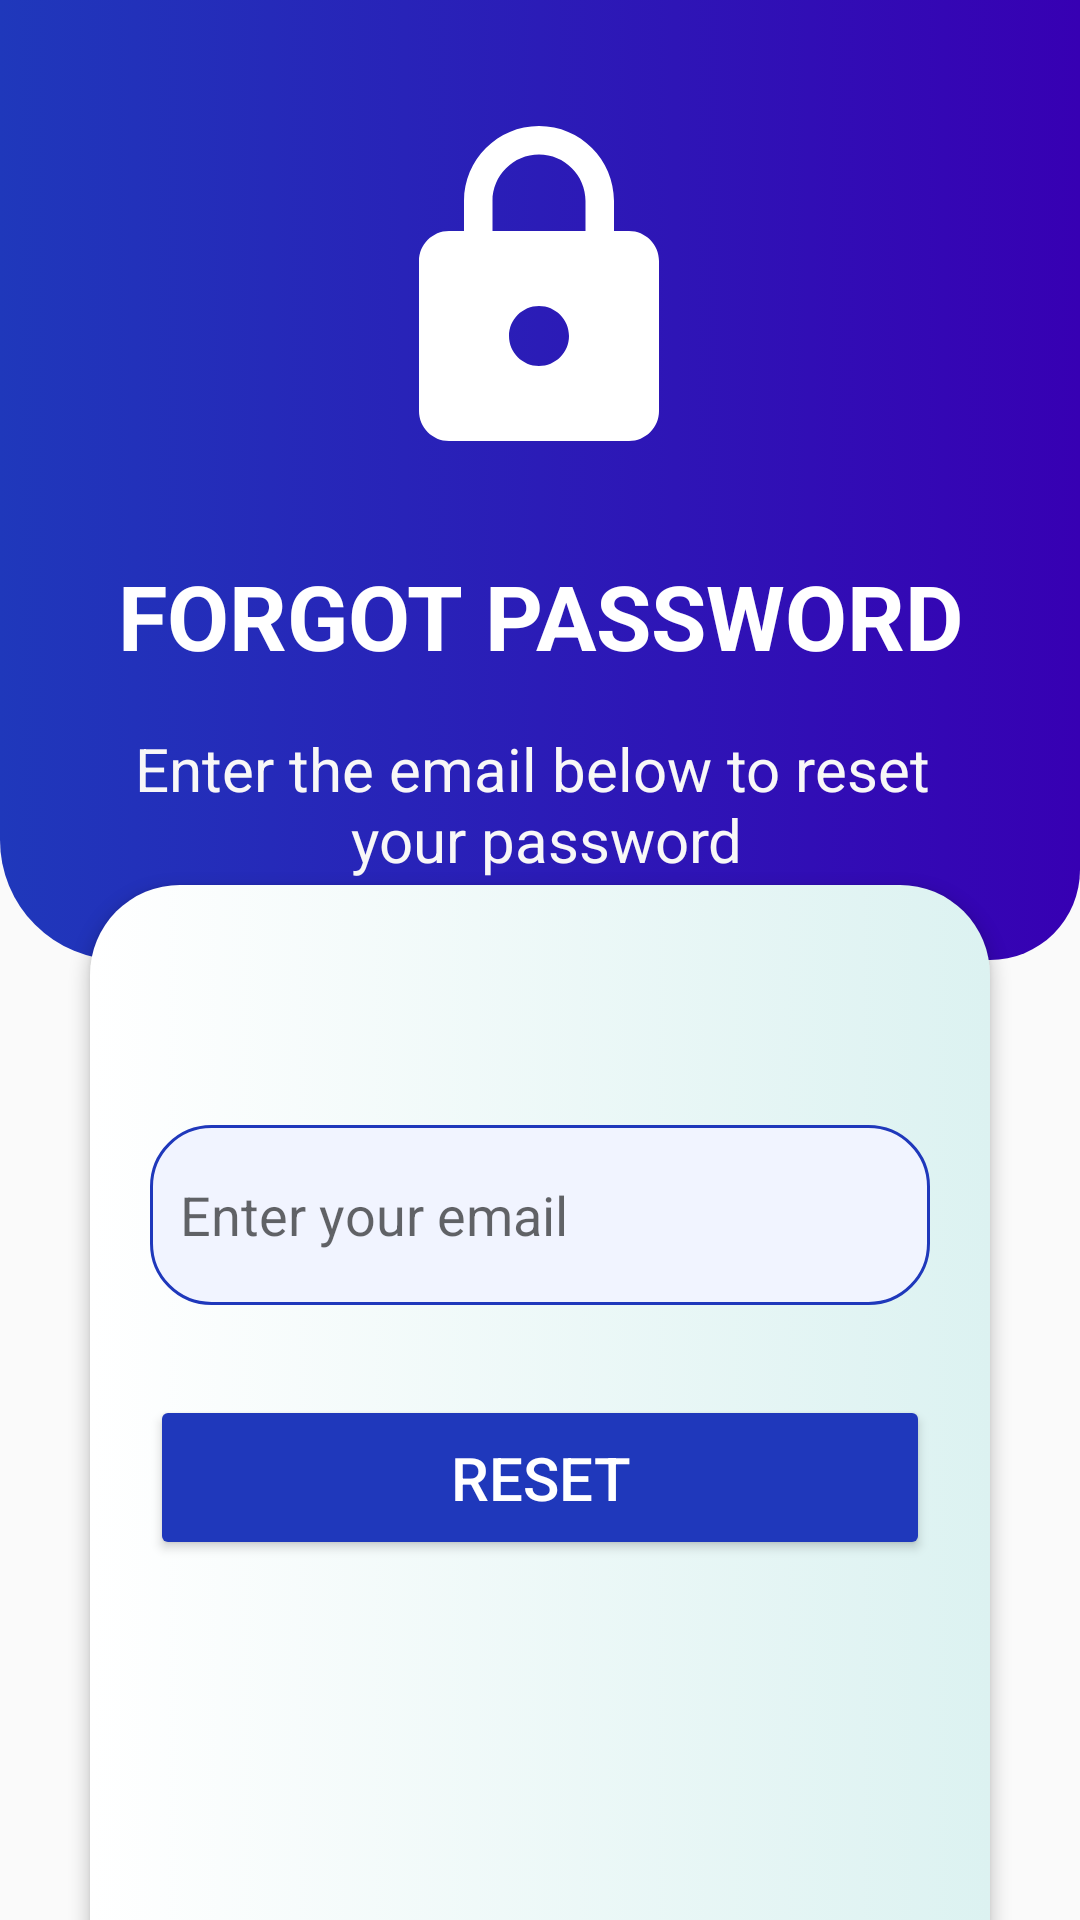

Icon click points for this 1080 × 1920 phone screenshot, format (x=x, y=y):
lock: (x=539, y=283)
